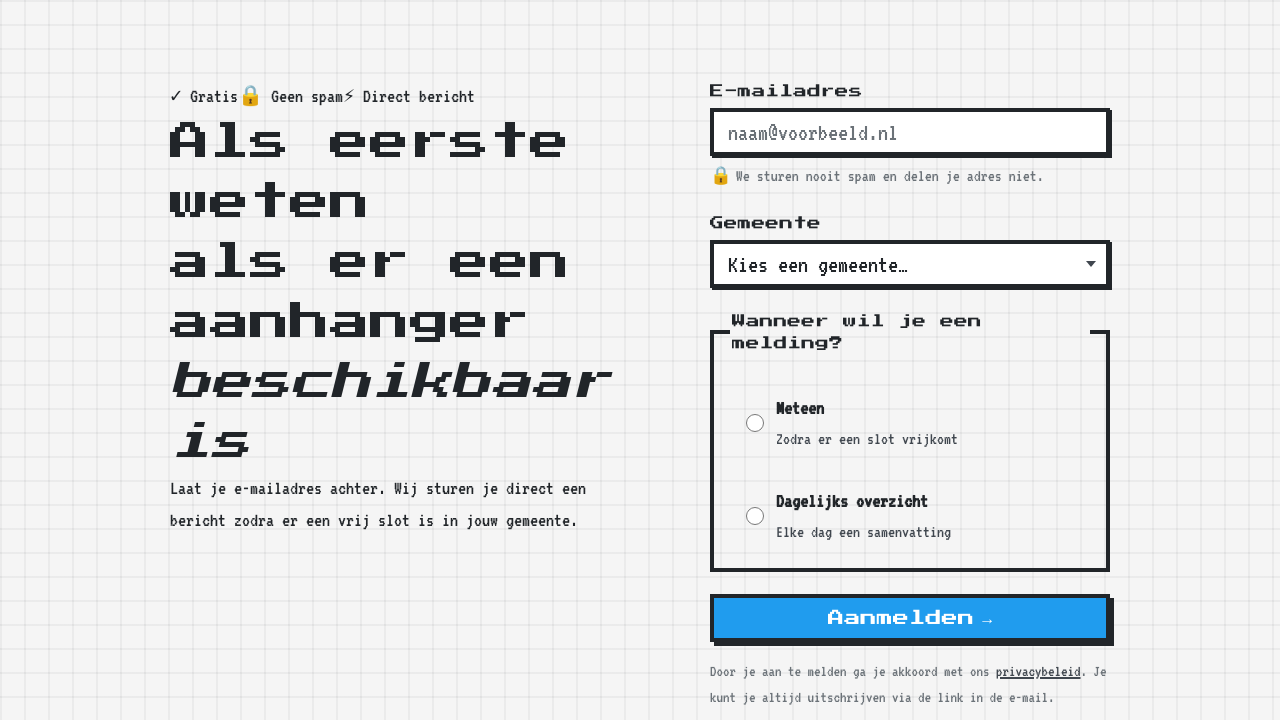
SubscribeComponent › shows Dutch error message when subscribe observable errors
The image size is (1280, 720).
Type "test@example.com" into the field labelled "E-mailadres".
click(910, 132); type("test@example.com")  # box [710,108,1110,156]
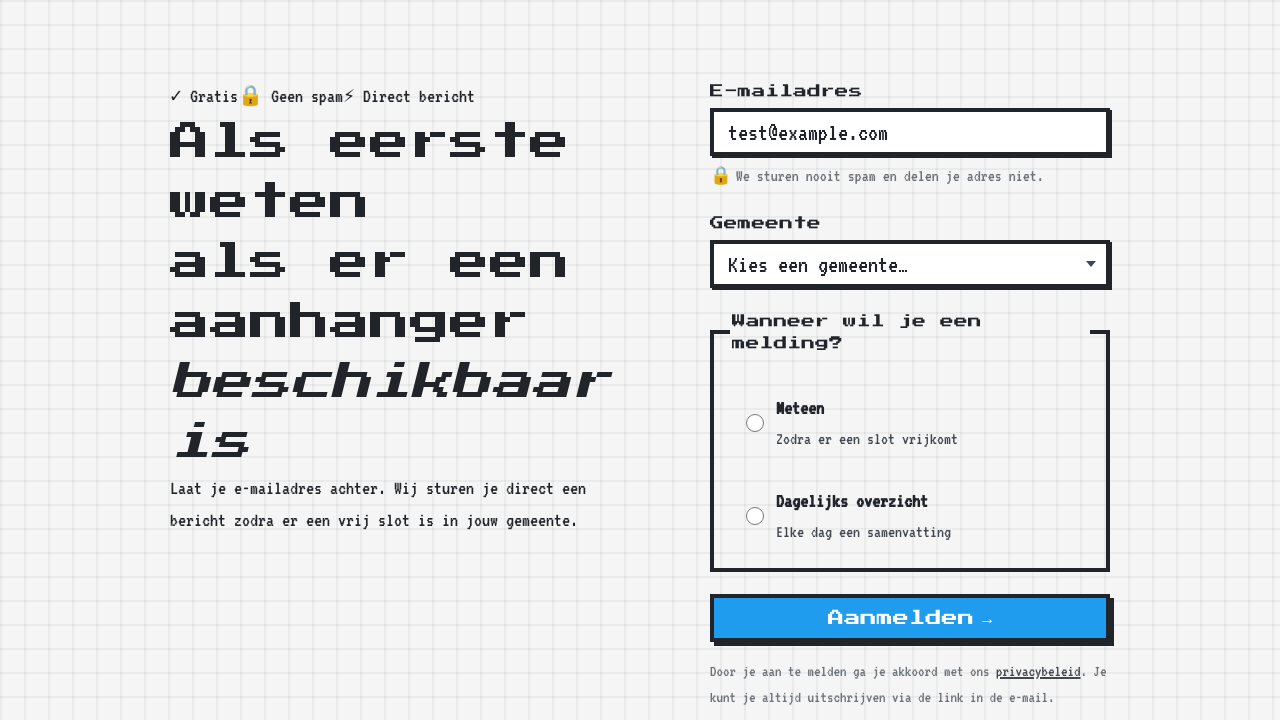
Select "Ede" in the dropdown labelled "Gemeente" at (910, 264), box [710,240,1110,288]
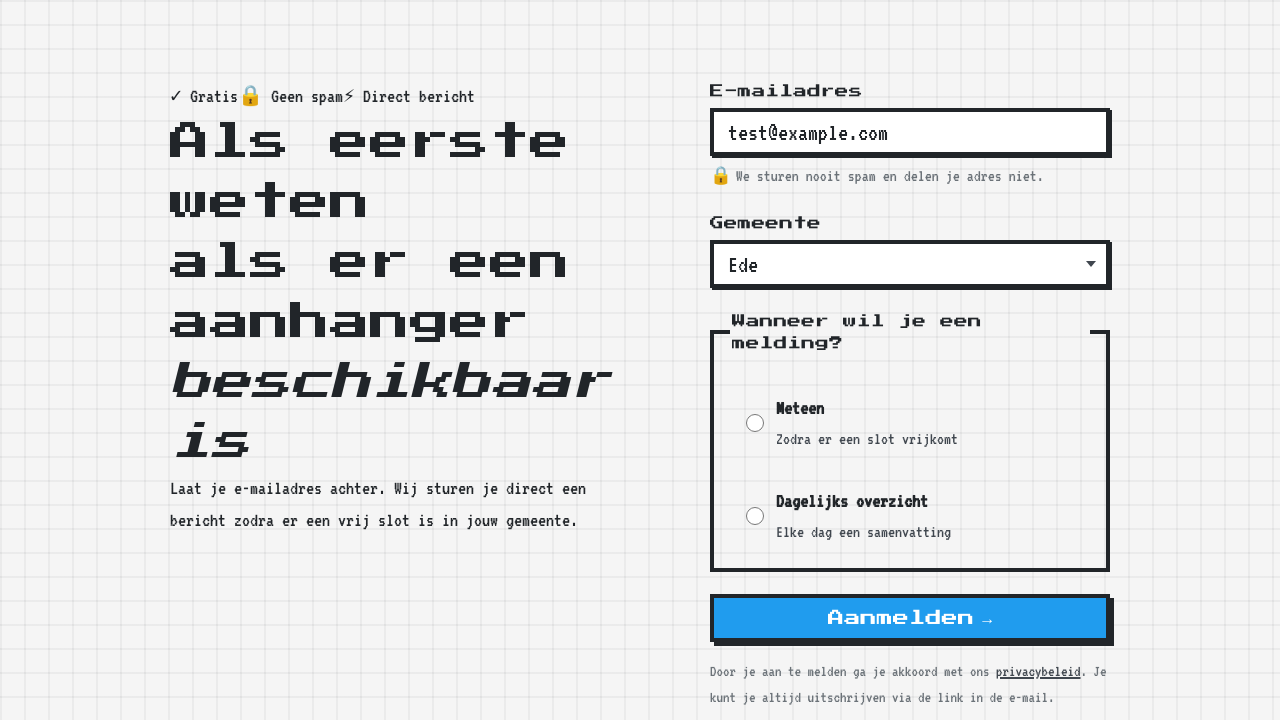
Click the radio button labelled "Meteen Zodra er een slot vrijkomt".
click(755, 422)  # box [746,414,764,432]
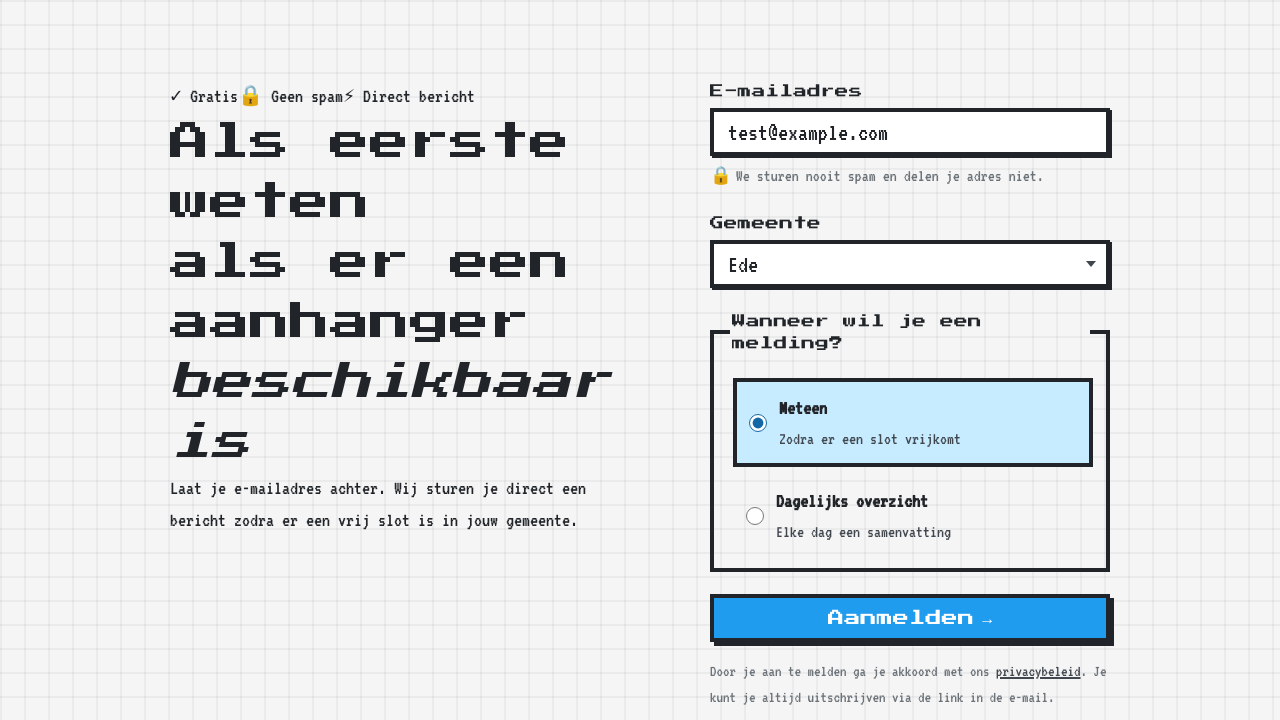
Submit the form, box [710,80,1110,642]
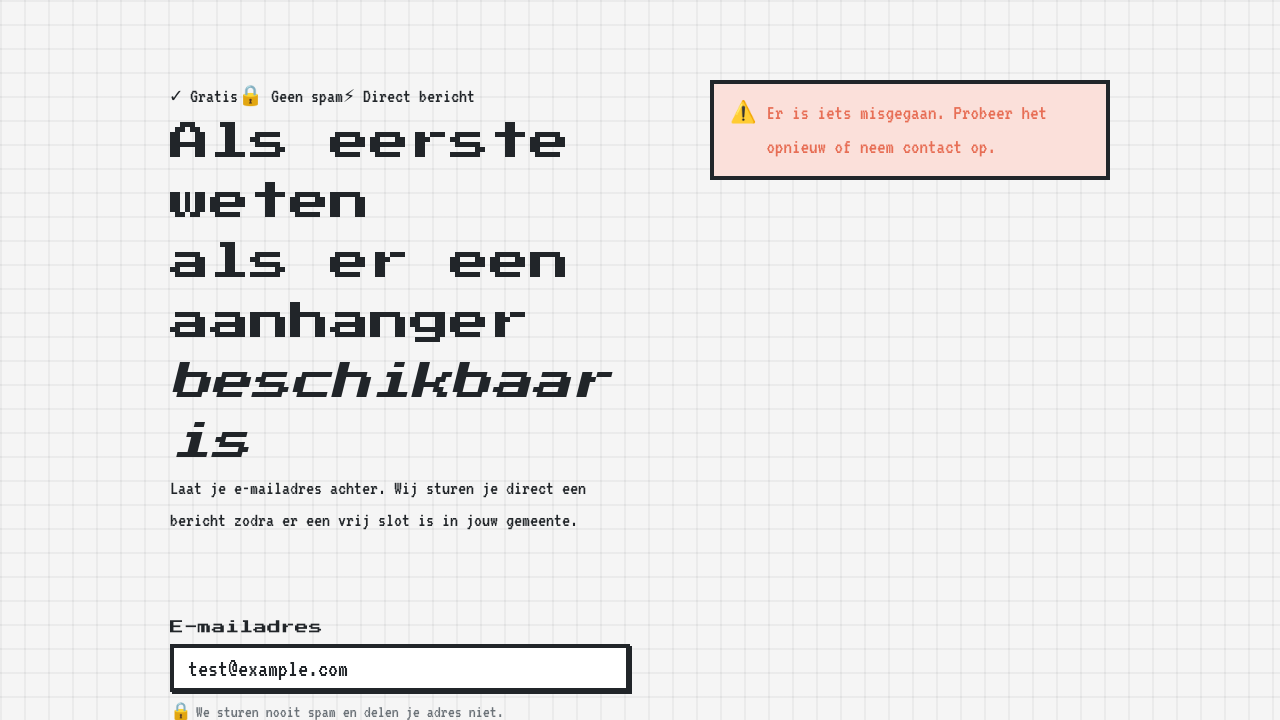
expect the message shows "Er is iets misgegaan": met, box [766,102,1047,157]
